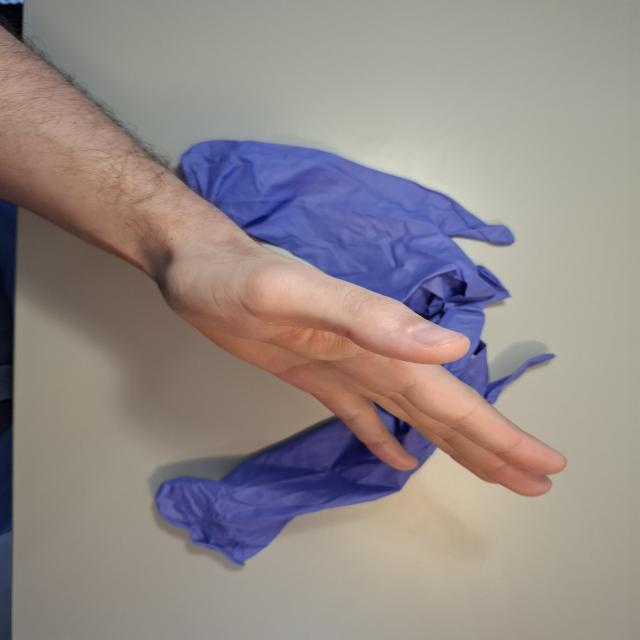glove_off: (150, 230, 570, 499)
